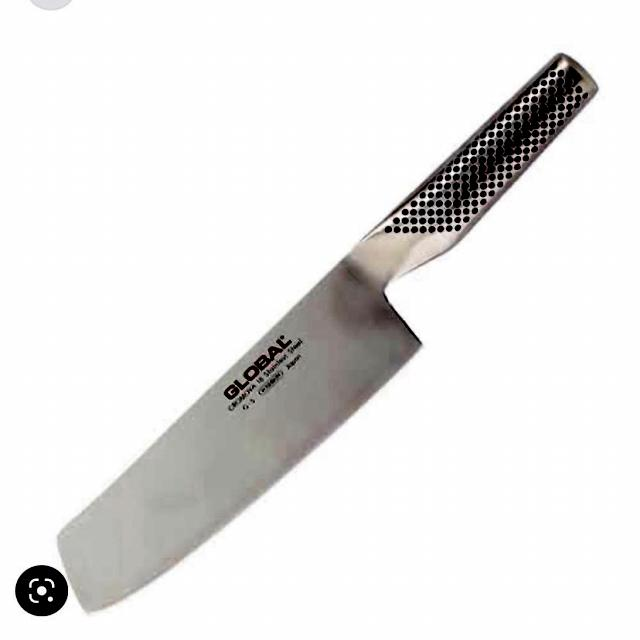knife: (59, 46, 604, 619)
